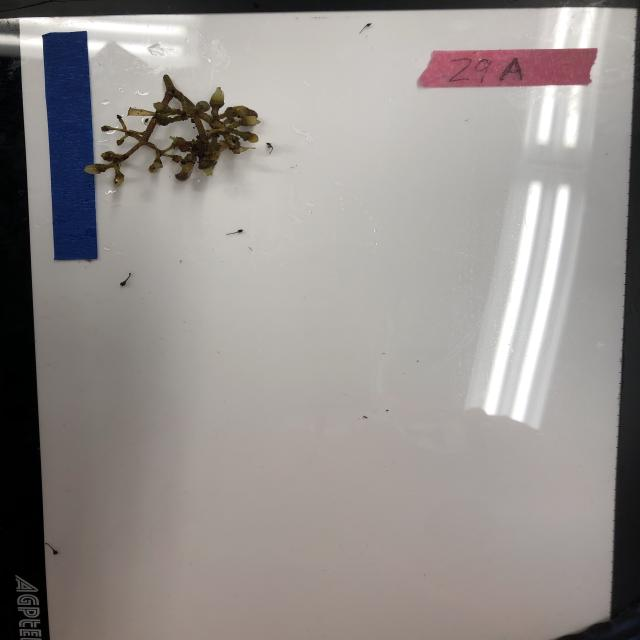index: (417, 46, 598, 90)
measure_label: (41, 30, 100, 261)
rachis_cluster: (84, 72, 263, 198)
